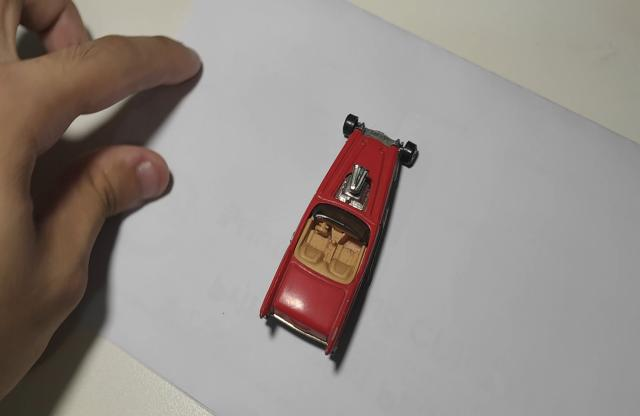03_V8: (257, 115, 420, 356)
